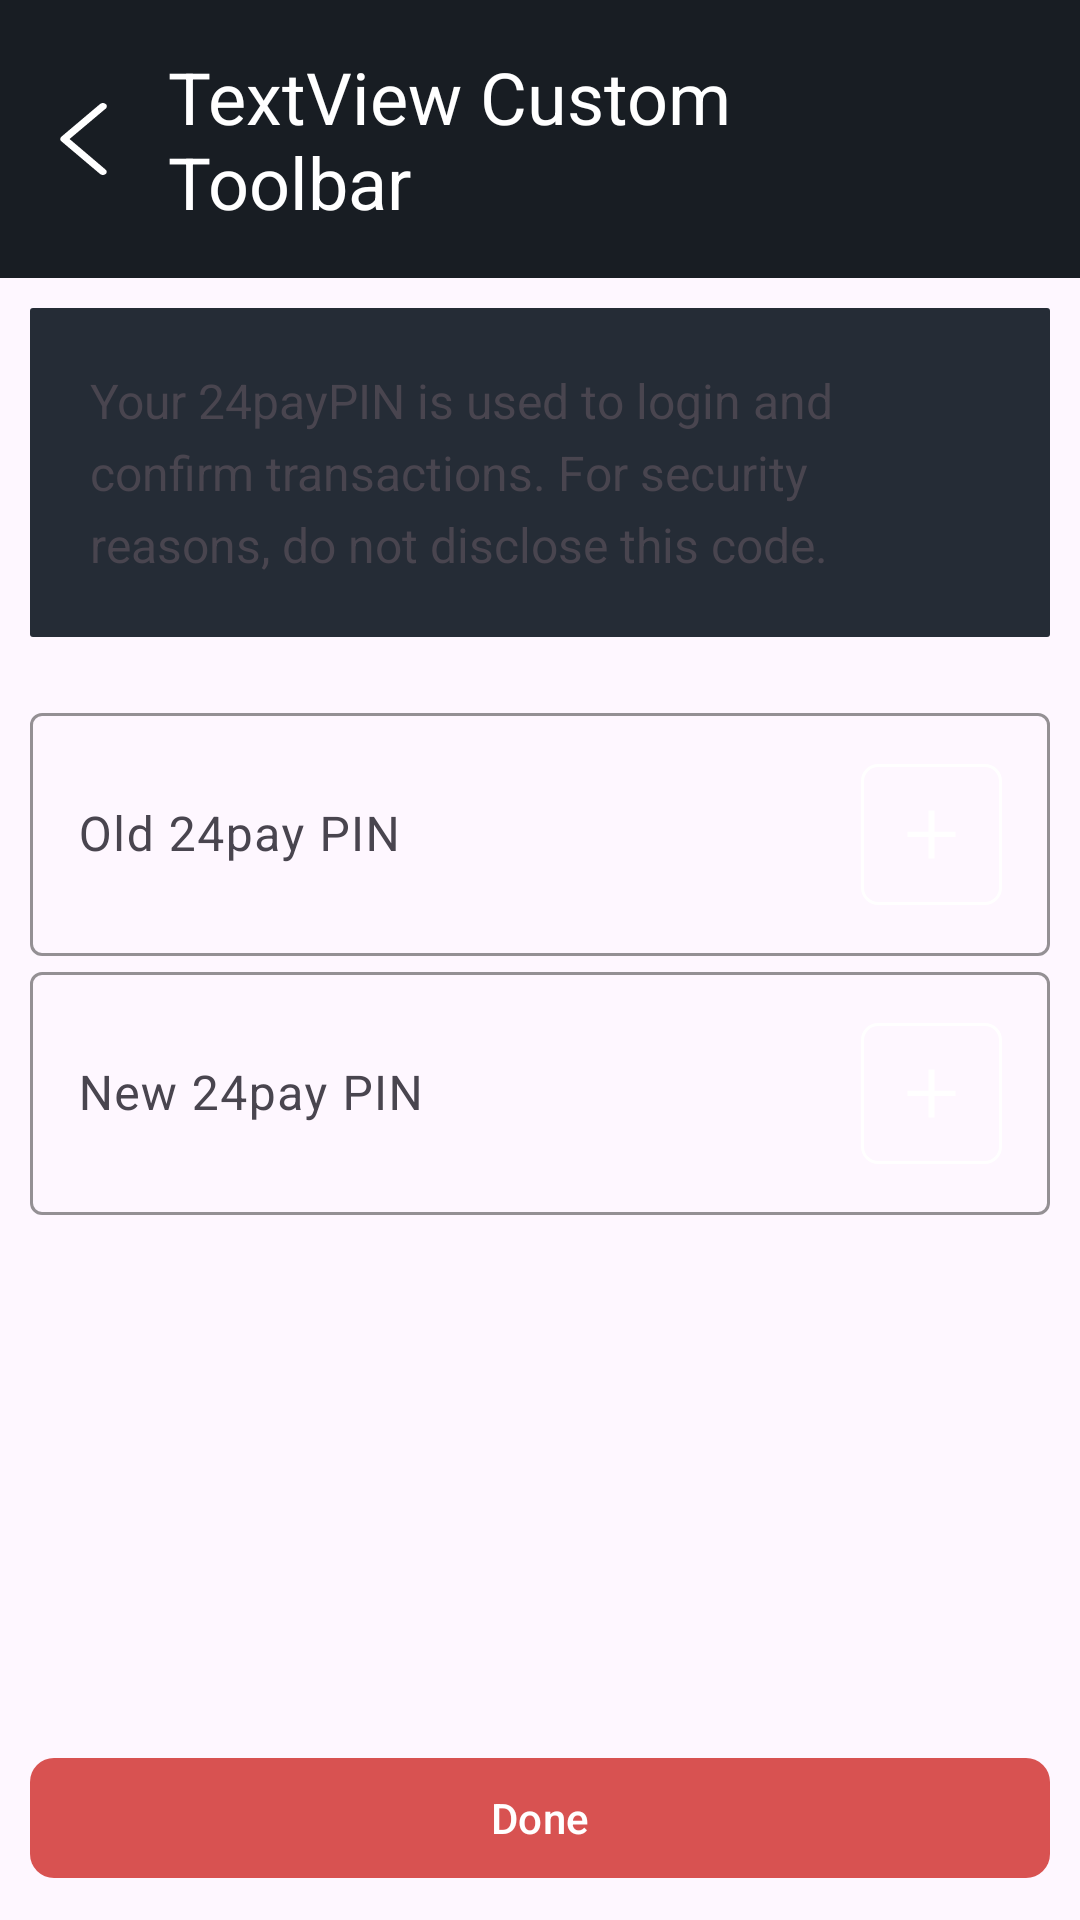

Icon click points for this 1080×1920 phone screenshot, format (x=x, y=y):
left: (x=83, y=139)
